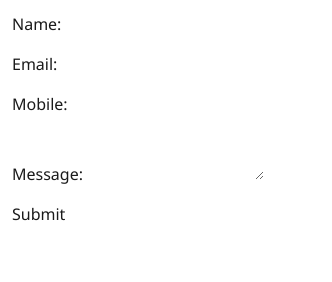
Test: Mock Data System Tests › Component Integration Tests › should submit contact form successfully
Fill out the form
Step 1. Type "Test User" into the field labelled "Name:" → (152, 24), box [61, 12, 242, 36]
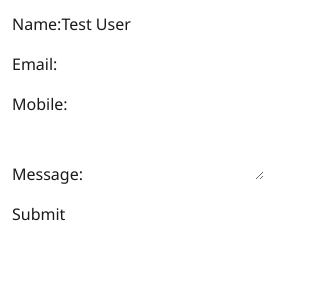
Step 2. Type "test@example.com" into the field labelled "Email:" → (148, 64), box [57, 52, 238, 76]
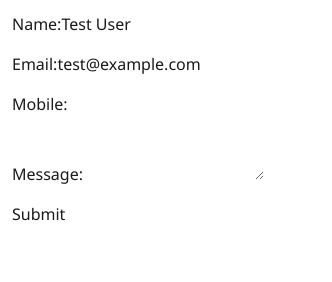
Step 3. Type "+353 89 123 4567" into the field labelled "Mobile:" → (158, 104), box [68, 92, 249, 116]
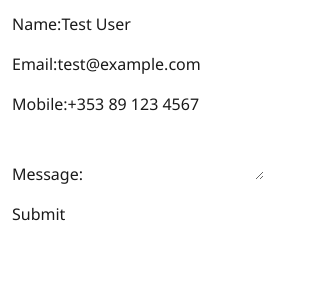
Step 4. Type "Test message" into the text box labelled "Message:" → (174, 156), box [83, 132, 264, 180]
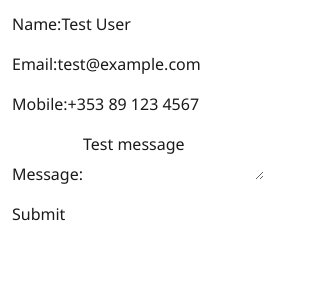
Submit the form
Step 5. Click the button "Submit" → (39, 214), box [12, 202, 65, 226]
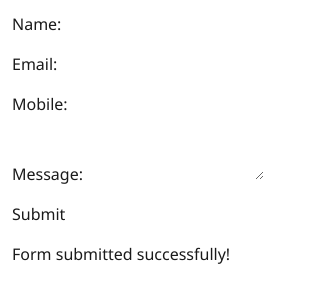
Check: the text "Form submitted successfully!" is shown, box [12, 243, 230, 265]
